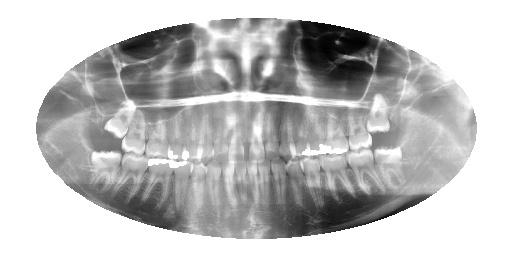i10healthy: (220, 159, 239, 209)
i11healthy: (201, 160, 223, 213)
i12healthy: (188, 160, 208, 216)
i13healthy: (171, 158, 196, 213)
i14healthy: (140, 153, 176, 212)
i15healthy: (109, 148, 150, 210)
i16healthy: (85, 144, 124, 196)
i1healthy: (372, 141, 413, 188)
i2healthy: (342, 147, 387, 196)
i3healthy: (318, 154, 357, 202)
i4healthy: (299, 155, 331, 206)
i5healthy: (284, 159, 310, 211)
i6healthy: (269, 155, 288, 209)
i7healthy: (258, 161, 273, 209)
i8healthy: (245, 161, 263, 211)
i9healthy: (232, 161, 252, 208)
u10healthy: (212, 106, 233, 163)
u11healthy: (196, 104, 218, 164)
u12healthy: (182, 105, 203, 161)
u13healthy: (165, 107, 186, 161)
u14healthy: (144, 107, 168, 158)
u15healthy: (116, 103, 150, 157)
u16healthy: (99, 97, 139, 142)
u1healthy: (365, 88, 394, 136)
u2healthy: (344, 96, 375, 151)
u3healthy: (322, 102, 352, 156)
u4healthy: (304, 97, 325, 156)
u5healthy: (289, 95, 311, 158)
u6healthy: (277, 97, 299, 161)
u7healthy: (260, 96, 283, 163)
u8healthy: (243, 100, 268, 165)
u9healthy: (225, 103, 250, 162)
